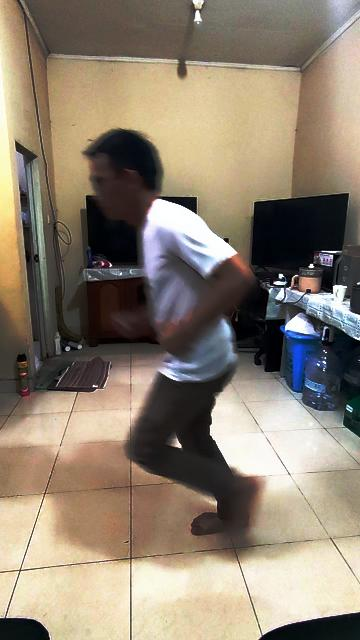berlari: (82, 123, 266, 541)
